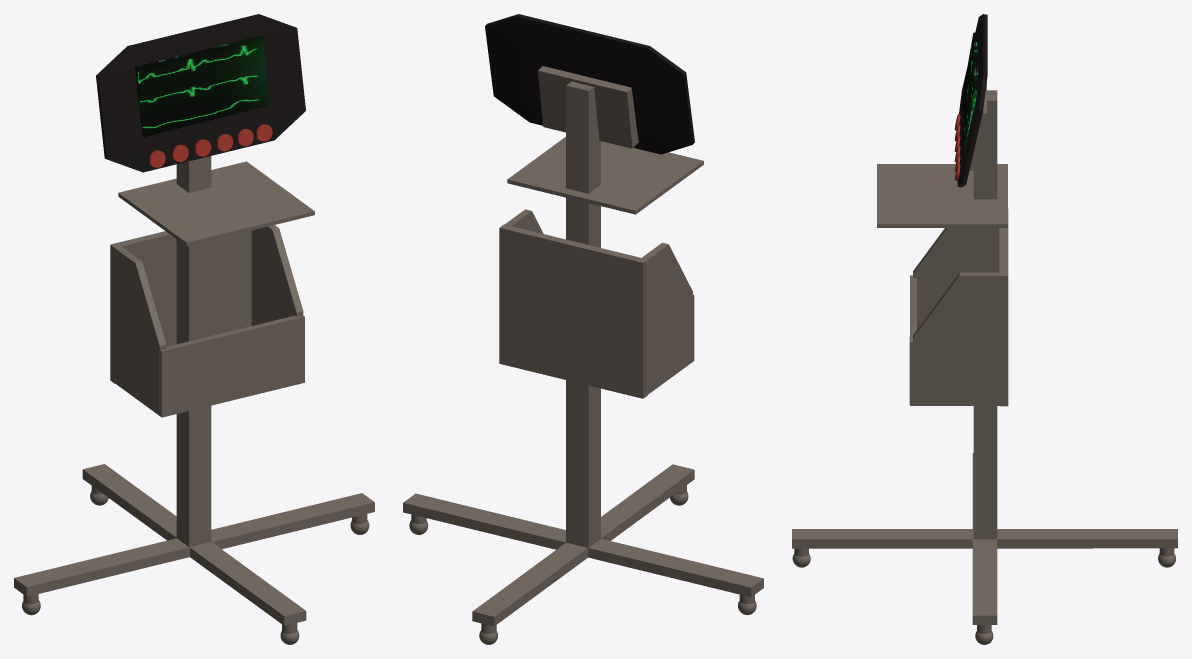
Rendered from ekgmonitörü.fbx.
The picture shows the model from 3 angles, left to right: view 1: azimuth 30°, elevation 25°; view 2: azimuth 150°, elevation 25°; view 3: azimuth 270°, elevation 25°; orthographic projection. The views are drawn at different scales.
Visible parts, largest first — view 1: Cube.027; view 2: Cube.027; view 3: Cube.027.
Part boxes in pixels (bbox=[...]): Cube.027: bbox=[14, 14, 374, 644]; Cube.027: bbox=[403, 14, 763, 644]; Cube.027: bbox=[792, 14, 1177, 644].
Bounding box in the file's own units: 11.82 × 17.64 × 11.82.
